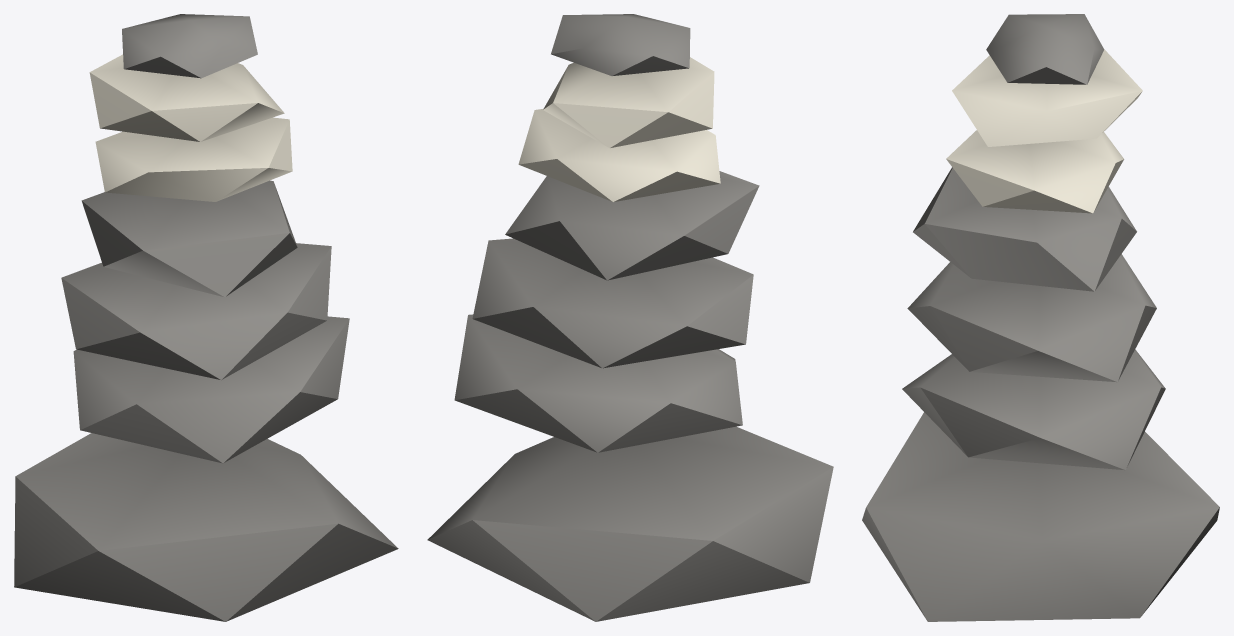
The model's file is cairn_d.glb.
3 renders of one model, left to right at view 1: azimuth 30°, elevation 25°; view 2: azimuth 150°, elevation 25°; view 3: azimuth 270°, elevation 25°, orthographic.
Visible parts, largest first — view 1: cairn_d; view 2: cairn_d; view 3: cairn_d.
Part boxes in pixels (x1=…): cairn_d: x1=14, y1=14, x2=398, y2=621; cairn_d: x1=427, y1=14, x2=833, y2=621; cairn_d: x1=862, y1=14, x2=1219, y2=621.
Size of the model in its own units: 0.9406 by 1.48 by 0.8637.
